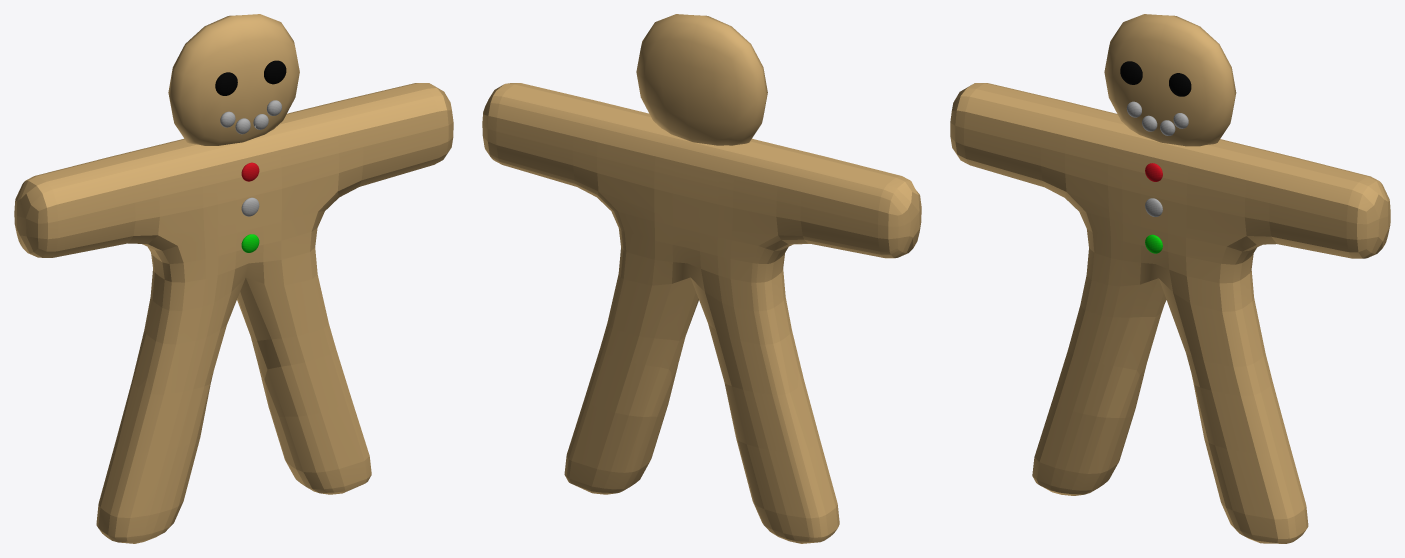
The model's file is gus.fbx.
3 views of the same model, side by side, from view 1: azimuth 30°, elevation 25°; view 2: azimuth 150°, elevation 25°; view 3: azimuth 330°, elevation 25° (orthographic).
Visible parts, largest first — view 1: Gus, Sphere, Sphere.001; view 2: Gus; view 3: Gus, Sphere, Sphere.001.
Boxes of the visible parts, bbox=[...] form: Gus: bbox=[14, 14, 453, 543]; Sphere: bbox=[215, 60, 286, 95]; Sphere.001: bbox=[220, 100, 281, 134]; Gus: bbox=[482, 14, 921, 543]; Gus: bbox=[950, 14, 1390, 543]; Sphere: bbox=[1120, 61, 1191, 96]; Sphere.001: bbox=[1126, 101, 1188, 135].
Size of the model in its own units: 589 by 656 by 83.41.
